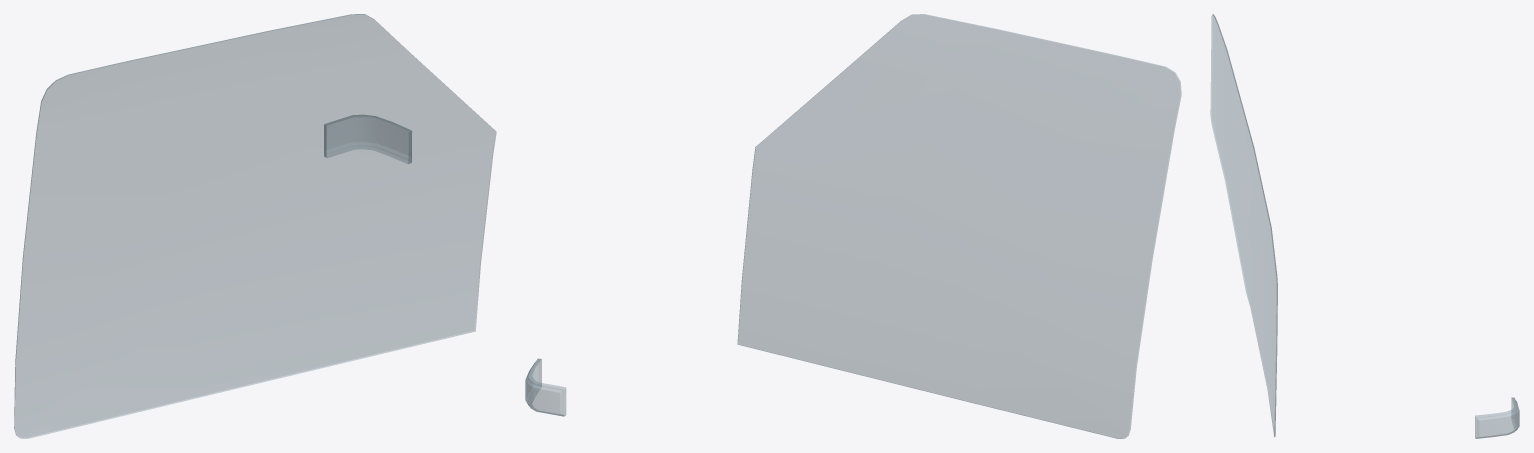
3 views of the same model, side by side, from view 1: azimuth 30°, elevation 25°; view 2: azimuth 150°, elevation 25°; view 3: azimuth 270°, elevation 25° (orthographic). The views are drawn at different scales.
Visible parts, largest first — view 1: SM_Ambulance_Door_FL_Glass_Ext1; view 2: SM_Ambulance_Door_FL_Glass_Ext1; view 3: SM_Ambulance_Door_FL_Glass_Ext1.
Boxes of the visible parts, x1,y1,x2,y2 form: SM_Ambulance_Door_FL_Glass_Ext1: (14, 14, 496, 438); SM_Ambulance_Door_FL_Glass_Ext1: (525, 14, 1181, 438); SM_Ambulance_Door_FL_Glass_Ext1: (1210, 14, 1519, 438).
Bounding box in the file's own units: 0.7929 × 0.5399 × 0.5563.
